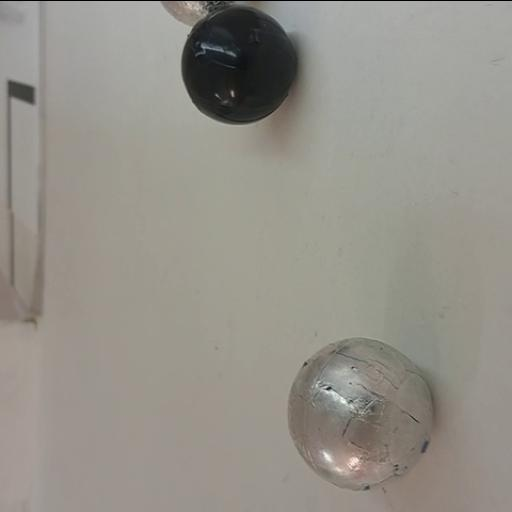alive: (286, 338, 434, 492), (156, 0, 266, 25)
dead: (182, 6, 296, 125)
